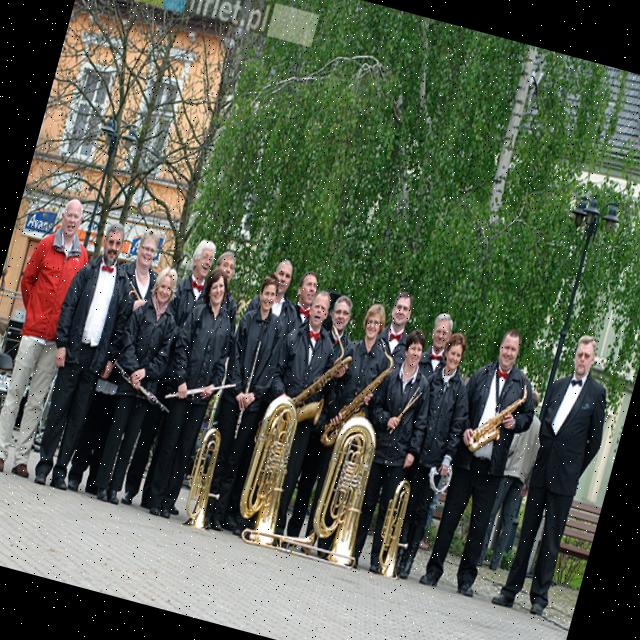clarinet: (105, 357, 182, 415)
saxophone: (316, 326, 402, 457), (461, 368, 536, 462)
